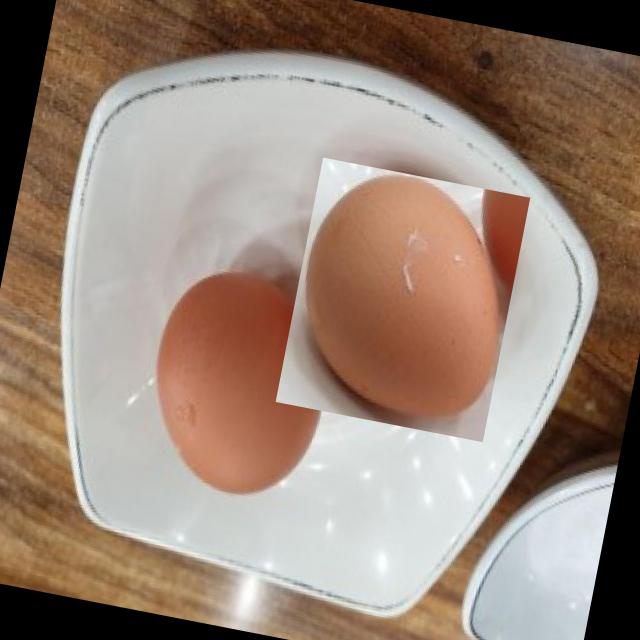eggs: (275, 158, 531, 443), (125, 252, 350, 514)
